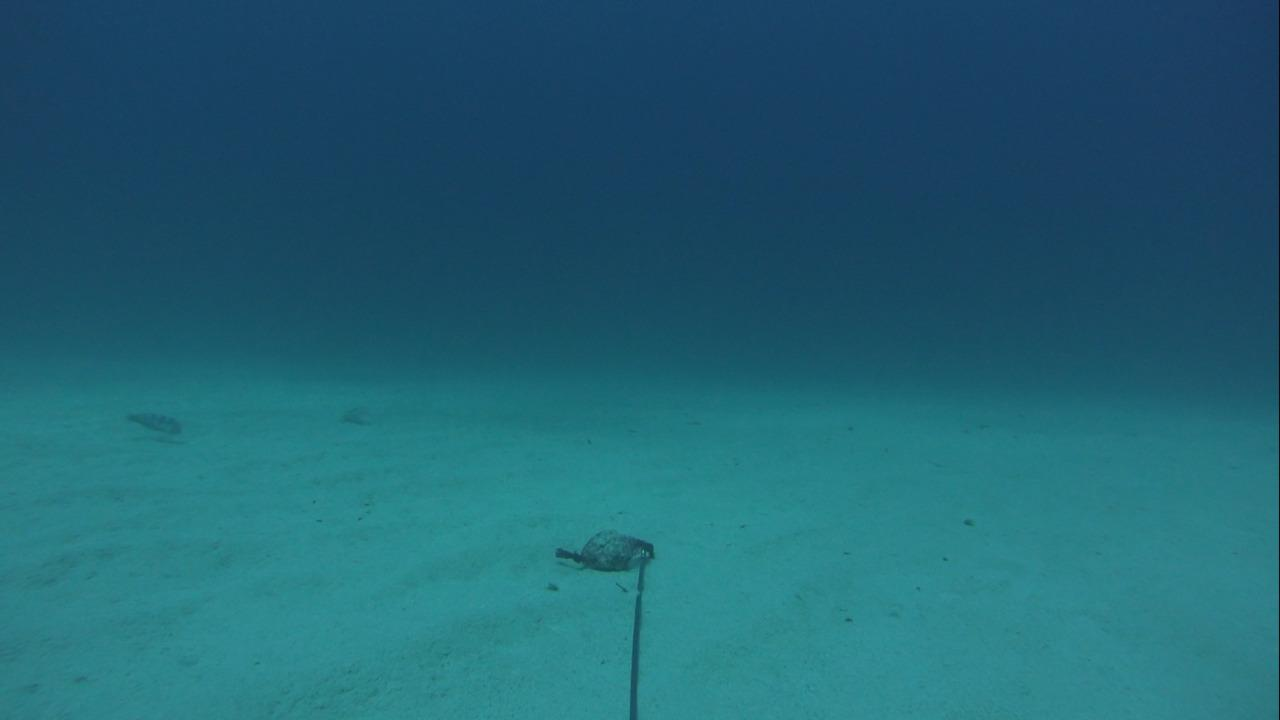raor: (112, 407, 184, 440)
